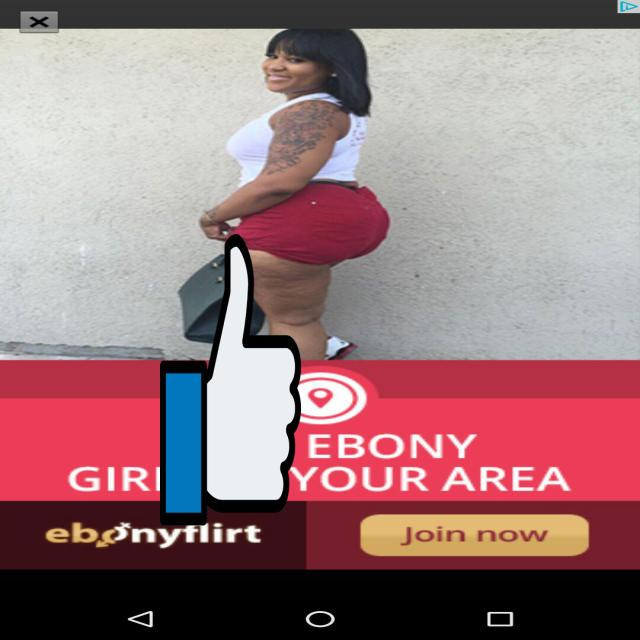privacy zuckering: (160, 228, 301, 532)
